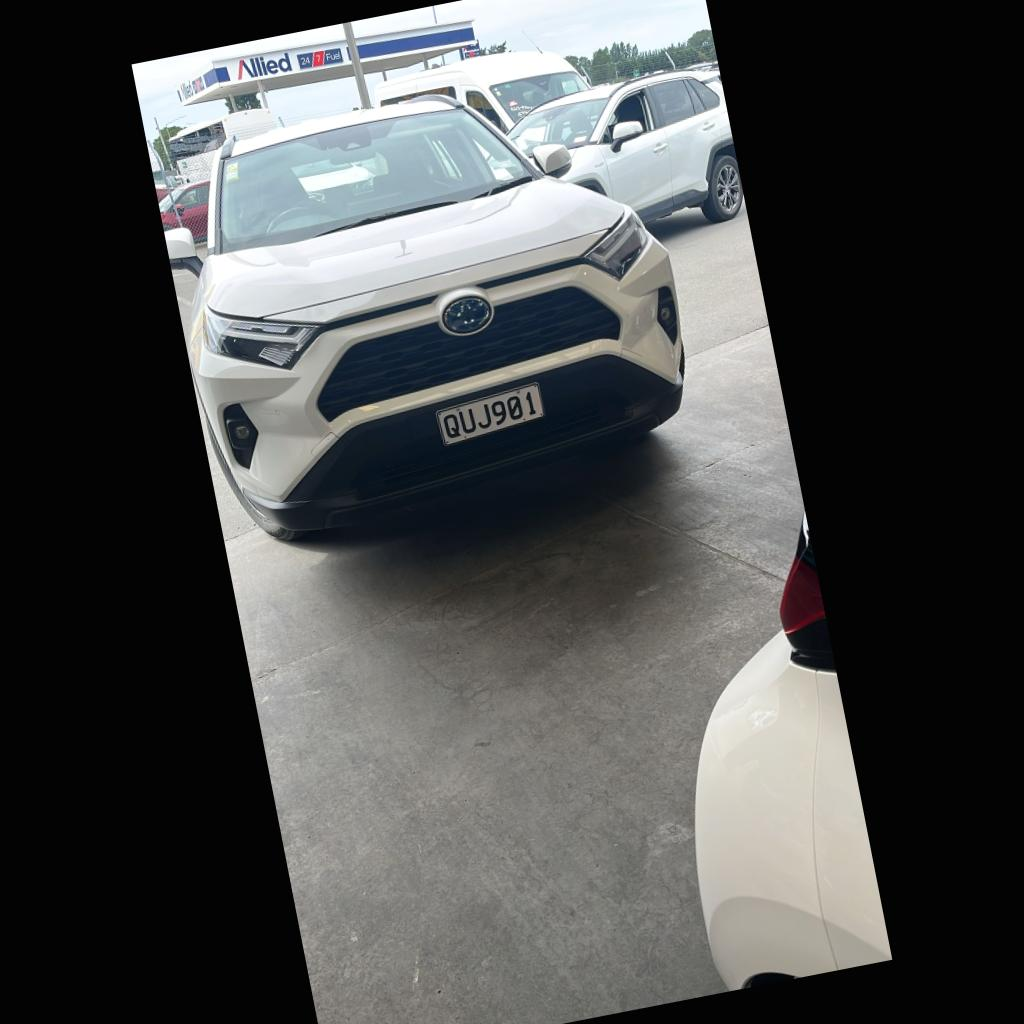Number-Plates: (430, 375, 558, 461)
